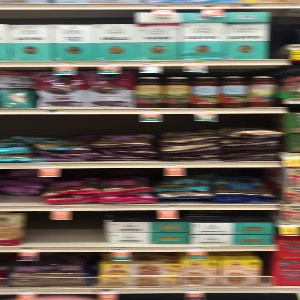void: (20, 212, 109, 249)
